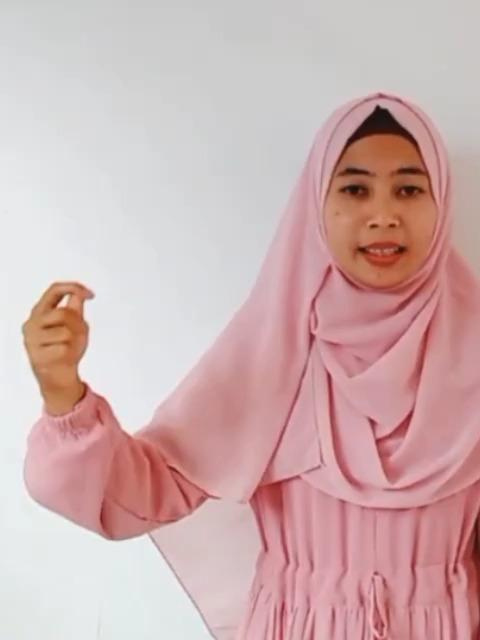T: (18, 278, 98, 388)
